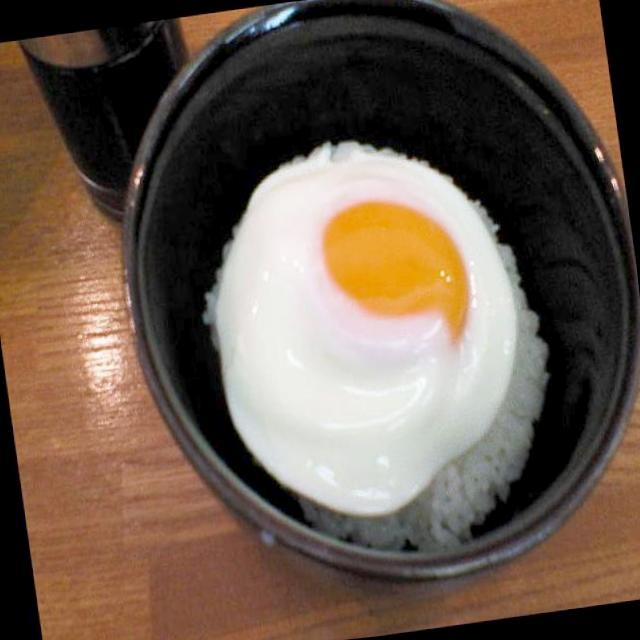Egg: (186, 108, 560, 534)
